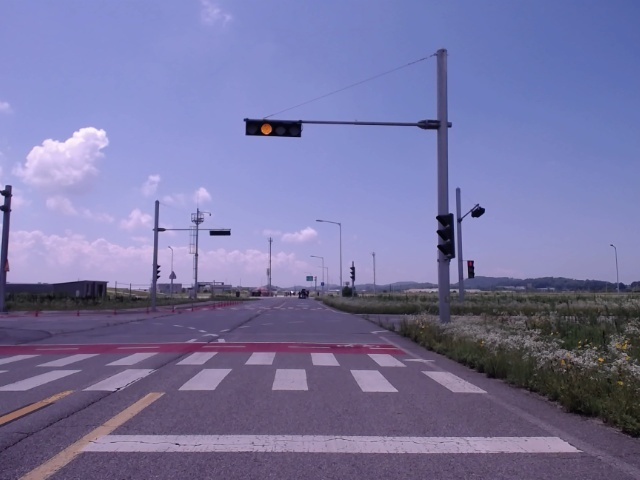orange_4: (247, 120, 302, 137)
